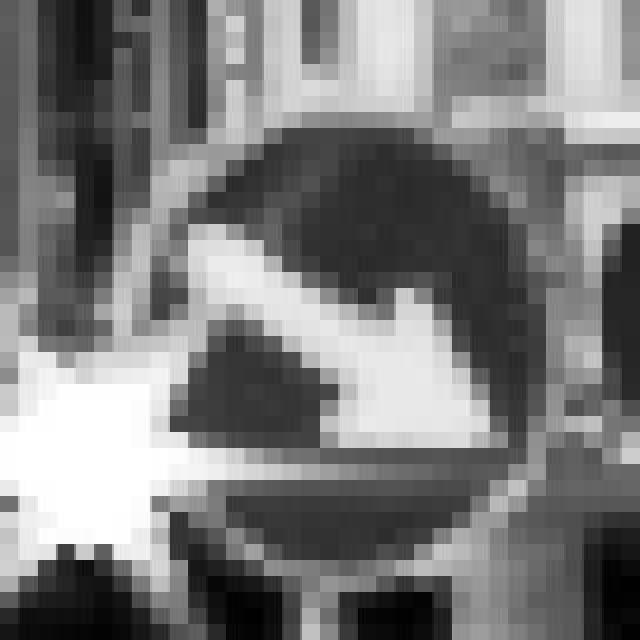keep right: (94, 80, 526, 576)
